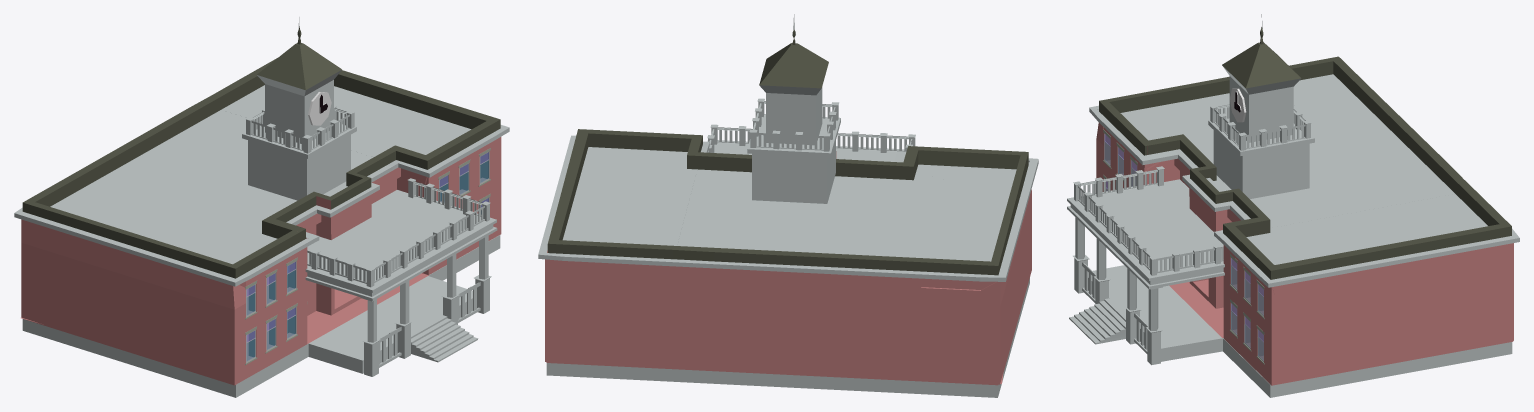
Rendered from TownHallUpdate.fbx.
The picture shows the model from 3 angles, left to right: view 1: azimuth 30°, elevation 25°; view 2: azimuth 150°, elevation 25°; view 3: azimuth 270°, elevation 25°; orthographic projection. The views are drawn at different scales.
Visible parts, largest first — view 1: Plane.045, Plane.046, Plane.044, Plane.047, Plane.052, Plane.048, Plane.050, Plane.049, Plane.051, Plane.053; view 2: Plane.045, Plane.044, Plane.046, Plane.047, Plane.052; view 3: Plane.045, Plane.046, Plane.044, Plane.047, Plane.052, Plane.048, Plane.049, Plane.050, Plane.051, Plane.053.
Part boxes in pixels (x1,y1,x2,y2): Plane.045: [21, 137, 501, 385]; Plane.046: [14, 17, 509, 397]; Plane.044: [50, 85, 471, 264]; Plane.047: [22, 26, 500, 278]; Plane.052: [245, 105, 491, 376]; Plane.048: [246, 160, 488, 360]; Plane.050: [246, 151, 489, 362]; Plane.049: [246, 152, 488, 341]; Plane.051: [245, 148, 490, 365]; Plane.053: [308, 92, 331, 125]; Plane.045: [545, 150, 1031, 385]; Plane.044: [562, 147, 1016, 261]; Plane.046: [538, 14, 1038, 397]; Plane.047: [547, 29, 1028, 275]; Plane.052: [707, 98, 915, 152]; Plane.045: [1096, 122, 1513, 385]; Plane.046: [1067, 14, 1519, 397]; Plane.044: [1120, 74, 1487, 264]; Plane.047: [1099, 27, 1511, 279]; Plane.052: [1073, 104, 1311, 365]; Plane.048: [1104, 142, 1263, 360]; Plane.049: [1104, 134, 1263, 341]; Plane.050: [1104, 134, 1263, 361]; Plane.051: [1103, 129, 1264, 364]; Plane.053: [1230, 88, 1246, 122].
Size of the model in its own units: 2990 by 1795 by 2576.
